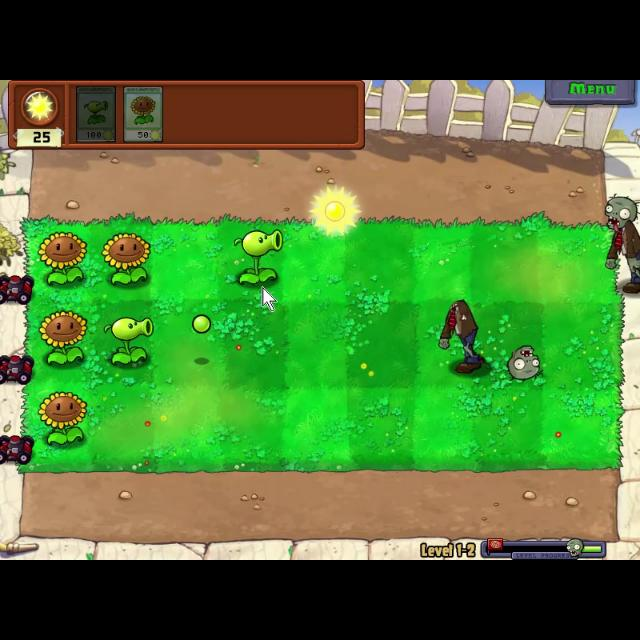Garden: (12, 216, 624, 469)
Menu Button: (543, 80, 637, 106)
Mower: (0, 430, 34, 468), (1, 354, 35, 384), (1, 273, 32, 303)
Peashooter: (74, 83, 118, 145)
Peashooter Seed: (99, 303, 157, 372), (230, 222, 288, 288)
Seed Panel: (6, 80, 368, 152)
Sun: (312, 186, 360, 238)
Sunflower: (122, 84, 166, 144)
Sunflower Seed: (36, 305, 92, 369), (98, 230, 158, 288), (34, 228, 90, 290), (34, 390, 88, 448)
Zombie: (434, 297, 492, 377), (600, 192, 640, 294)
